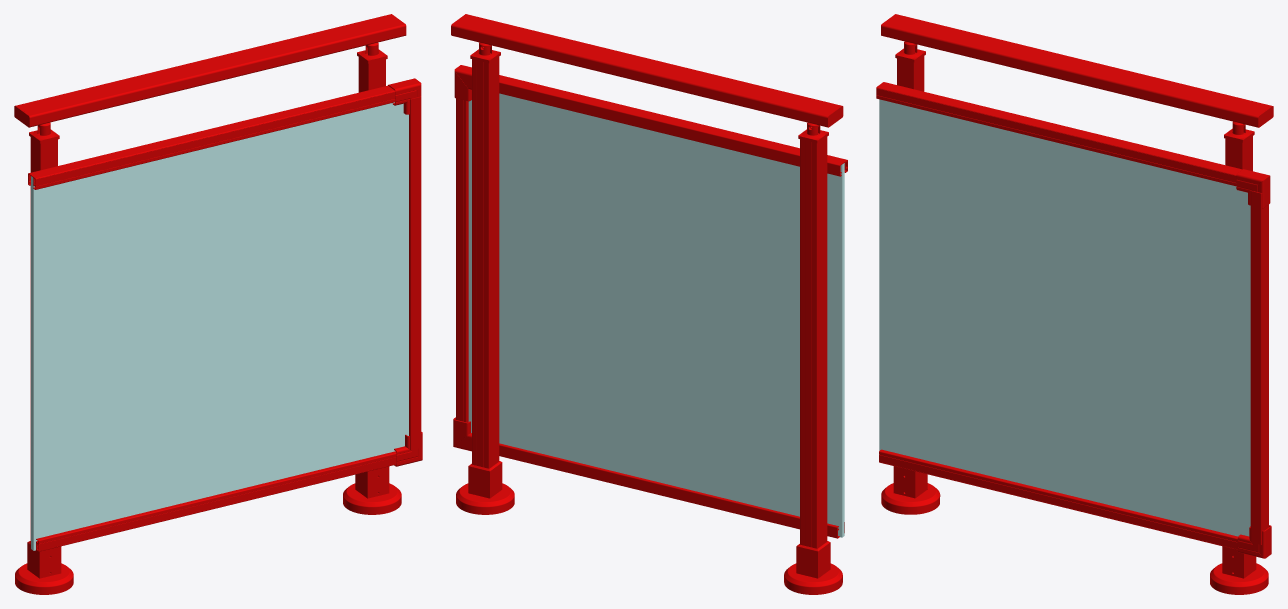
Rendered from end.glb.
3 views of the same model, side by side, from view 1: azimuth 30°, elevation 25°; view 2: azimuth 150°, elevation 25°; view 3: azimuth 330°, elevation 25° (orthographic).
Visible parts, largest first — view 1: glass, leg; view 2: glass, leg; view 3: glass, leg.
Part boxes in pixels (box(x1,y1,x2,y2)): glass: box(31, 102, 408, 550); leg: box(14, 14, 422, 594); glass: box(468, 93, 844, 537); leg: box(451, 14, 847, 594); glass: box(879, 99, 1250, 536); leg: box(876, 14, 1273, 594).
Bounding box in the file's own units: 2.39 × 2.78 × 0.3102.
